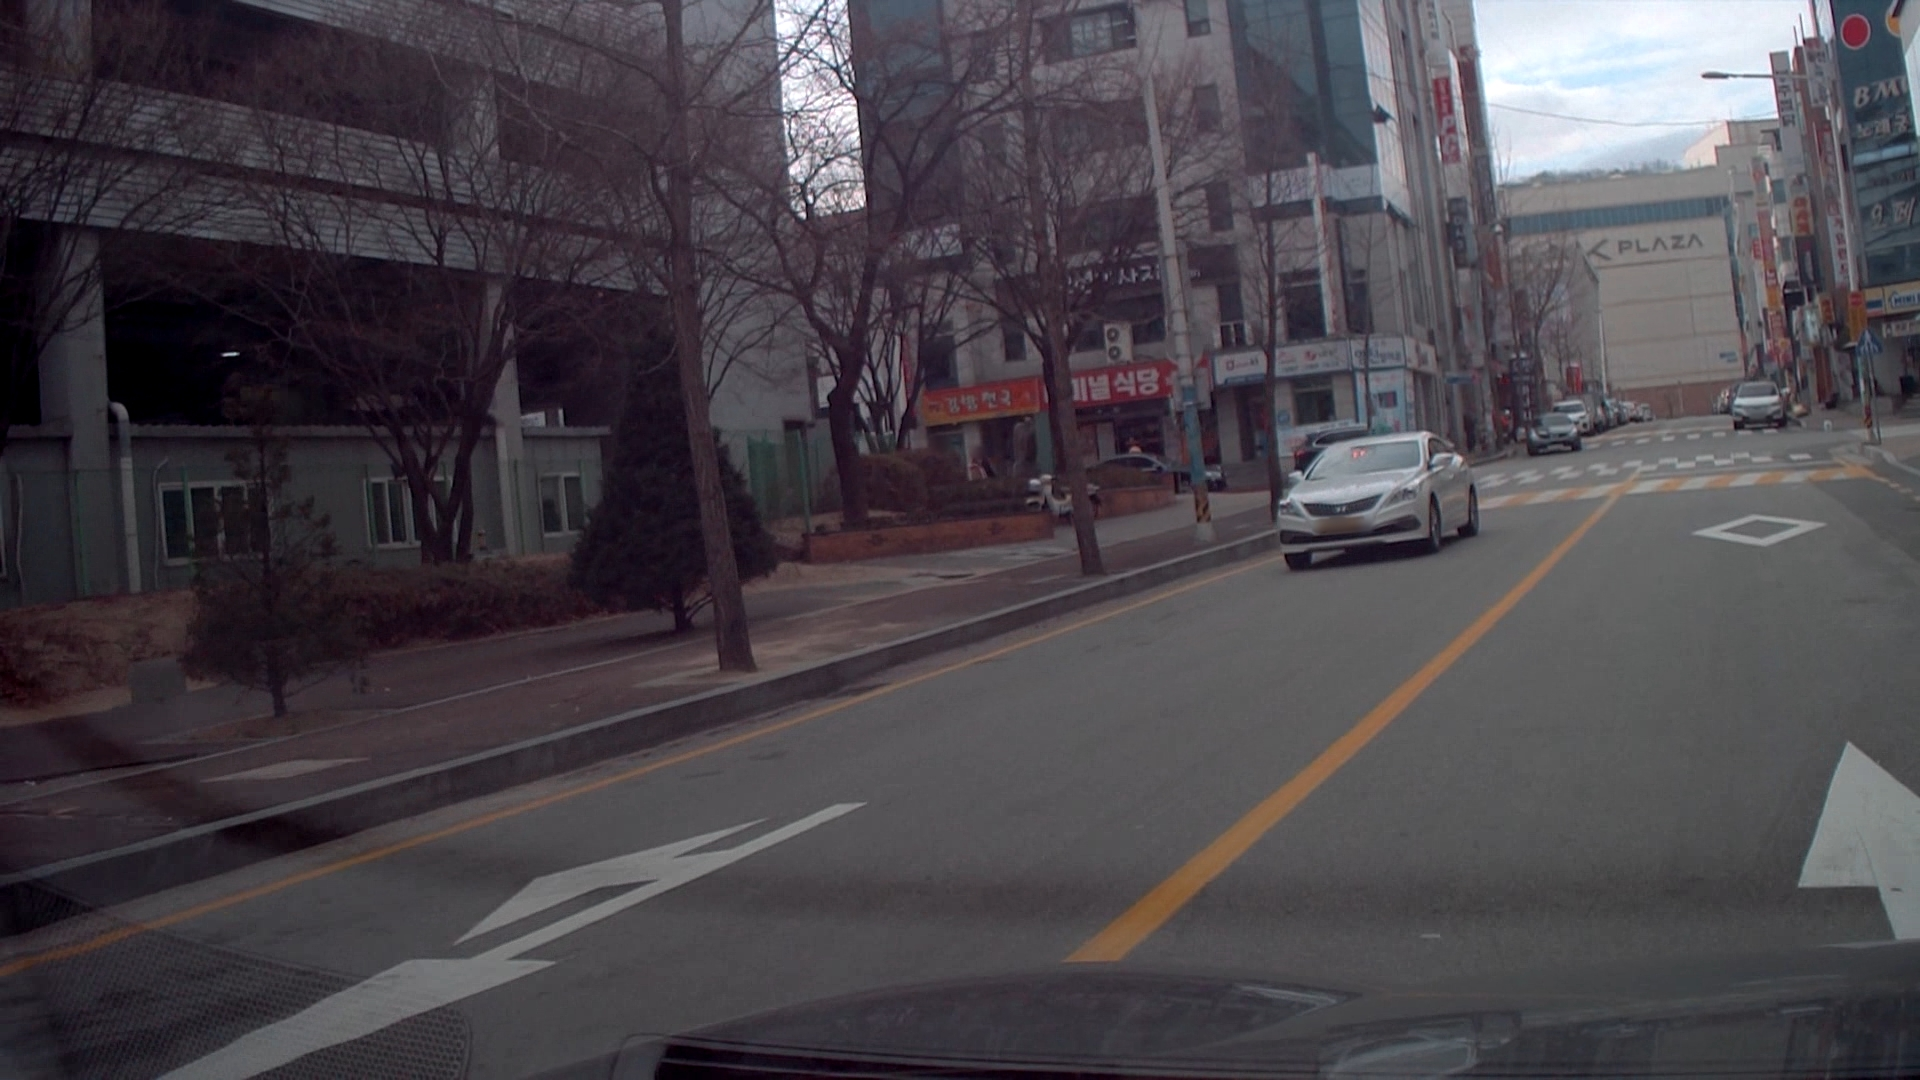trafficSignTri: (1855, 327, 1886, 355)
